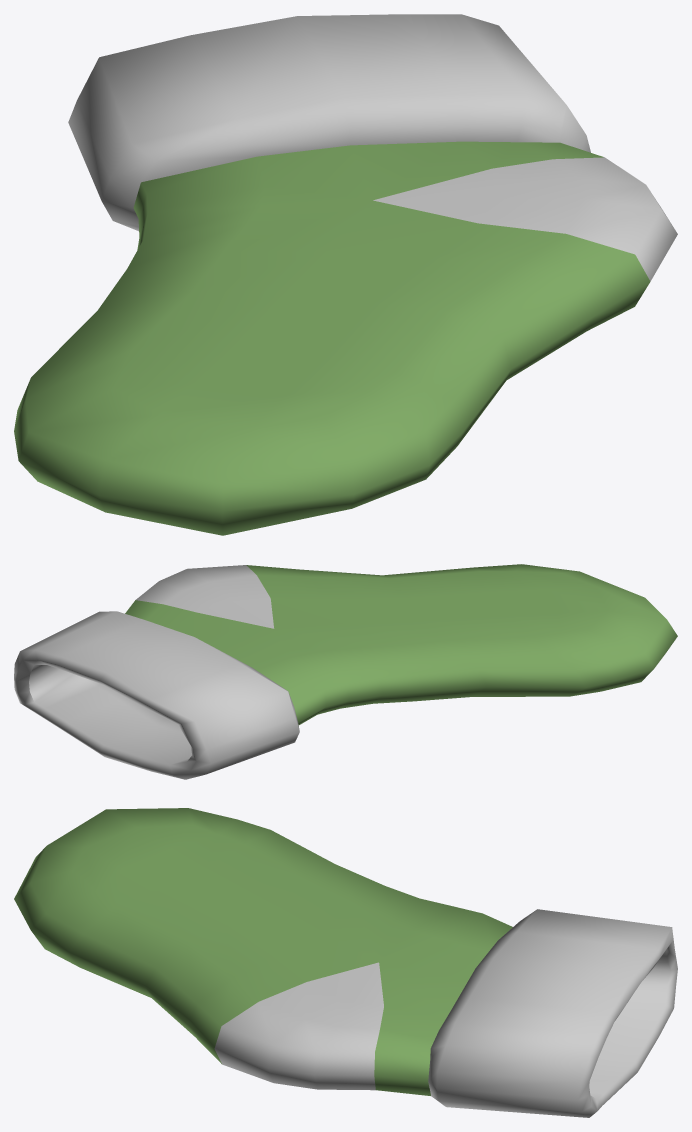
Rendered from Sock_01.fbx.
3 renders of one model, top to bottom at view 1: azimuth 30°, elevation 25°; view 2: azimuth 150°, elevation 25°; view 3: azimuth 270°, elevation 25°, orthographic. The views are drawn at different scales.
Visible parts, largest first — view 1: Sock_01; view 2: Sock_01; view 3: Sock_01.
Part boxes in pixels (<box>): Sock_01: <box>14,14,677,535</box>; Sock_01: <box>14,564,677,779</box>; Sock_01: <box>14,808,677,1117</box>.
Size of the model in its own units: 0.1355 by 0.0229 by 0.138.
